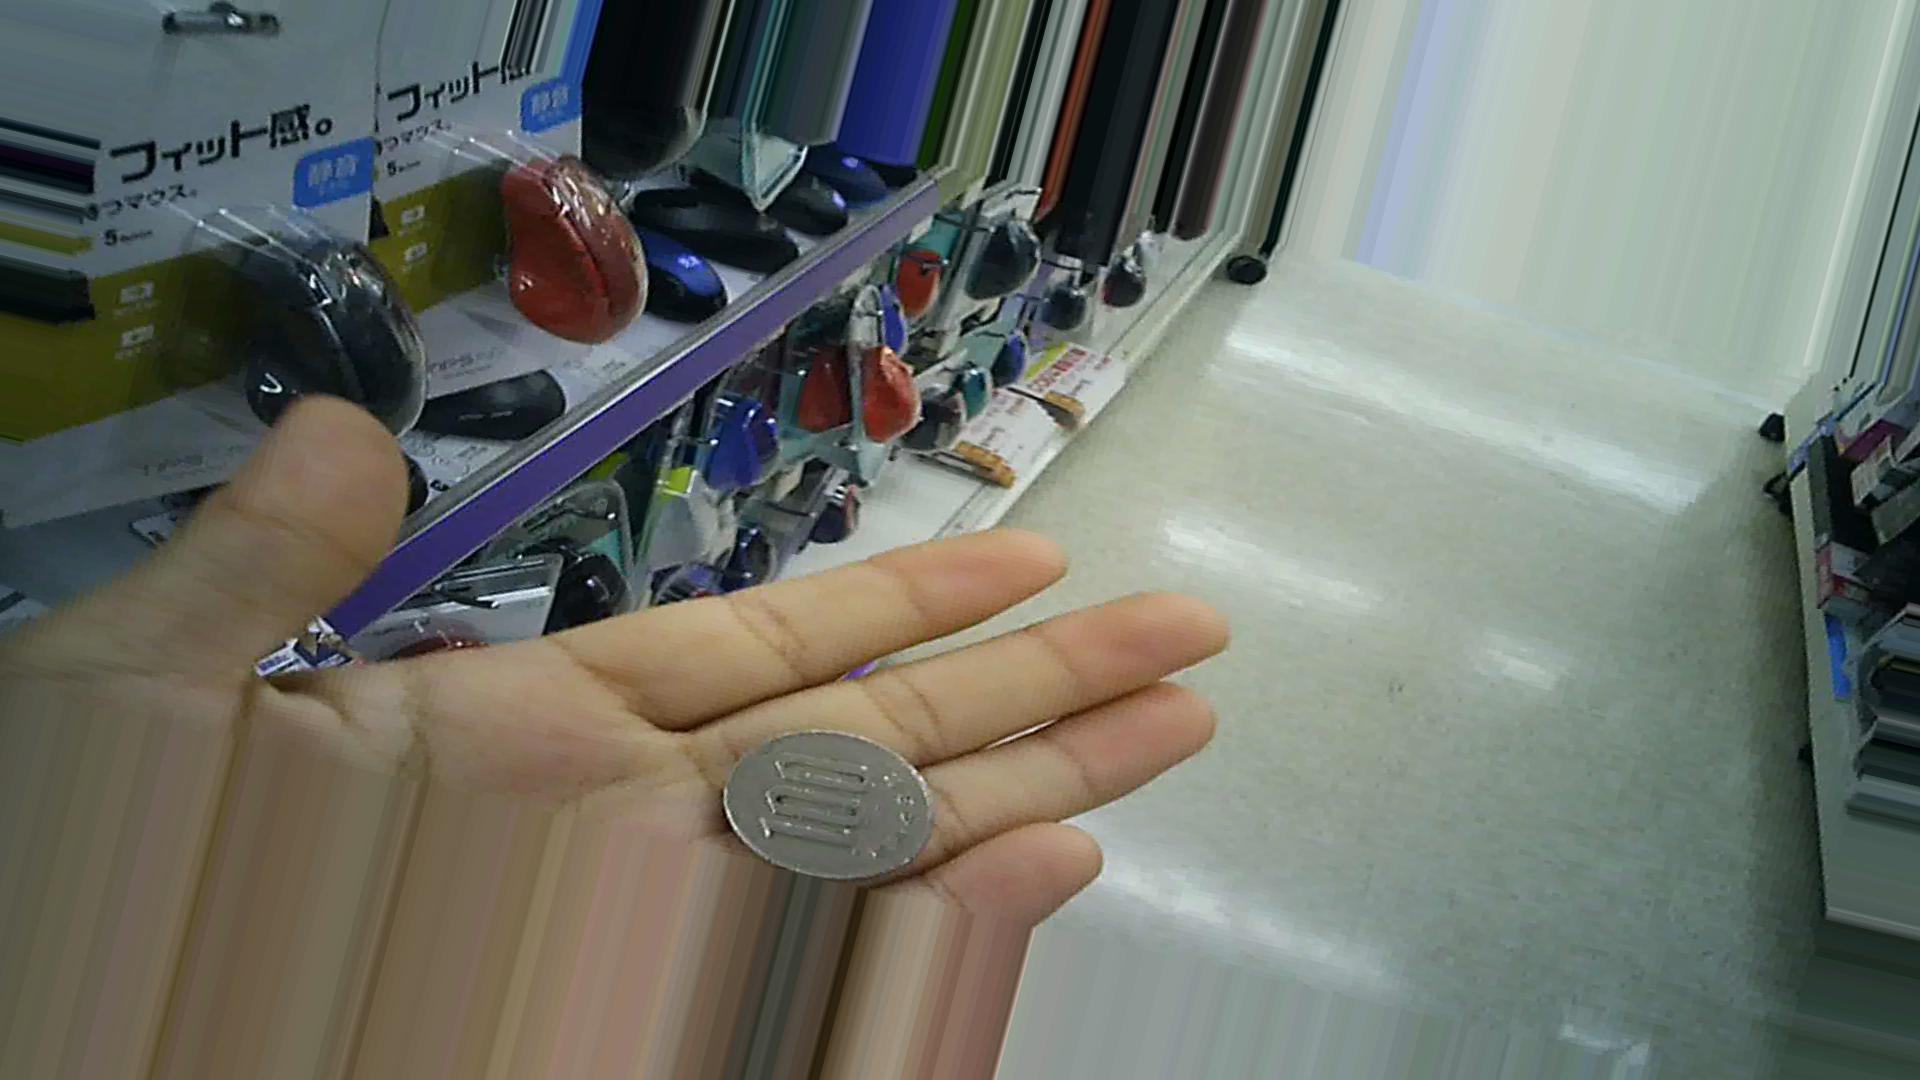100 Yen: (711, 729, 956, 876)
